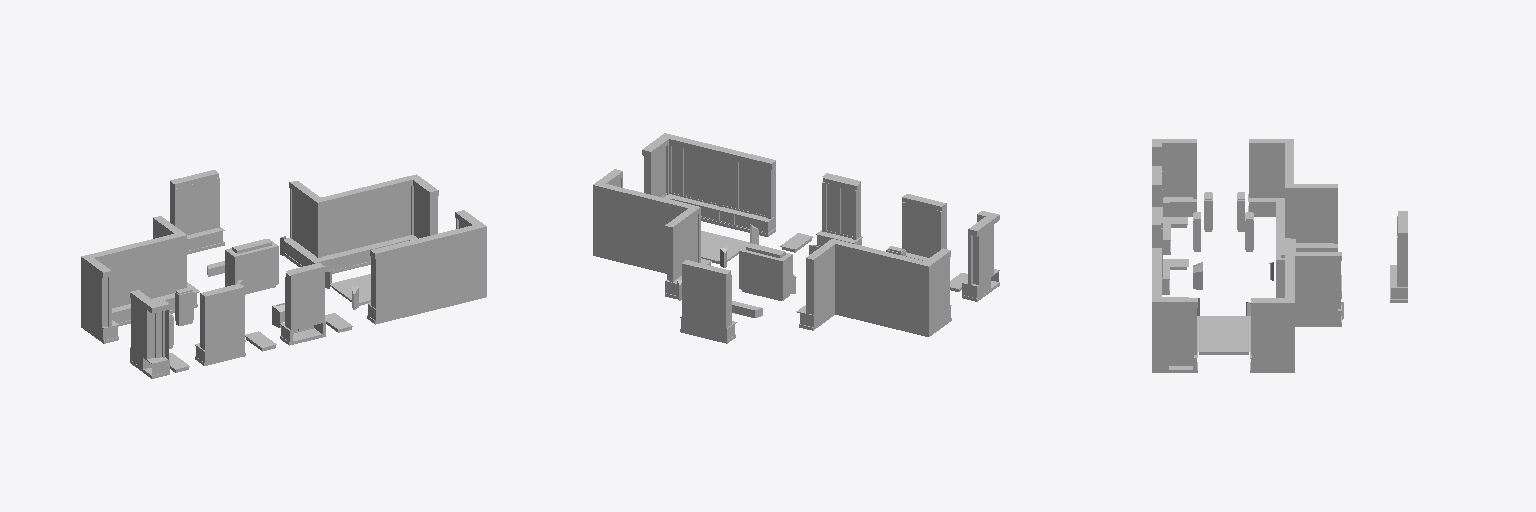
File: gruppo11B - ruotato.obj
3 views of the same model, side by side, from view 1: azimuth 30°, elevation 25°; view 2: azimuth 150°, elevation 25°; view 3: azimuth 270°, elevation 25° (orthographic).
Bounding box in the file's own units: 22.08 × 4.45 × 14.57.